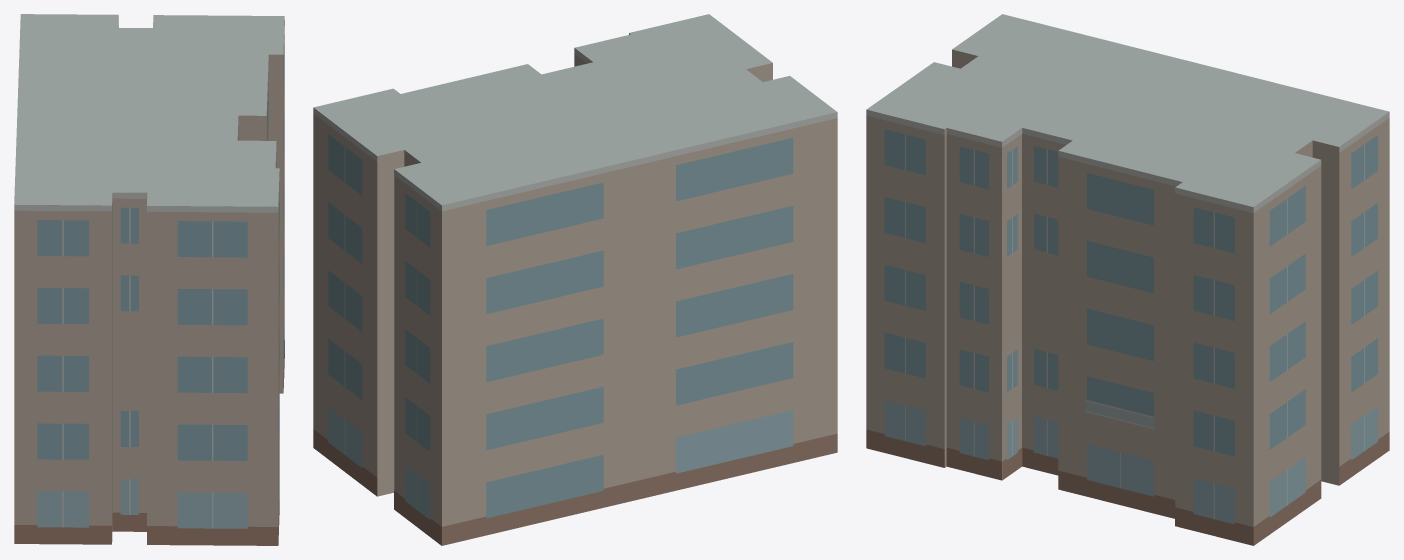
Rendered from survey-upis-33043631.glb.
3 renders of one model, left to right at view 1: azimuth 30°, elevation 25°; view 2: azimuth 150°, elevation 25°; view 3: azimuth 270°, elevation 25°, orthographic.
Visible parts, largest first — view 1: survey-upis-33043631.tmp; view 2: survey-upis-33043631.tmp; view 3: survey-upis-33043631.tmp.
Part boxes in pixels (left/top/right/bottom): survey-upis-33043631.tmp: left=14, top=14, right=284, bottom=545; survey-upis-33043631.tmp: left=313, top=14, right=837, bottom=545; survey-upis-33043631.tmp: left=866, top=14, right=1389, bottom=545.
Bounding box in the file's own units: 17.07 × 13.95 × 19.54.
